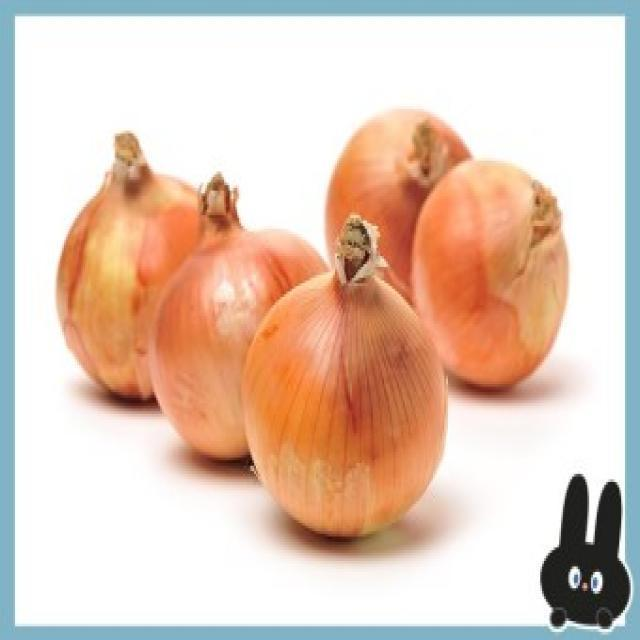onion: (240, 216, 450, 543), (145, 177, 327, 463), (56, 133, 201, 405), (410, 159, 571, 392), (322, 108, 472, 293)
